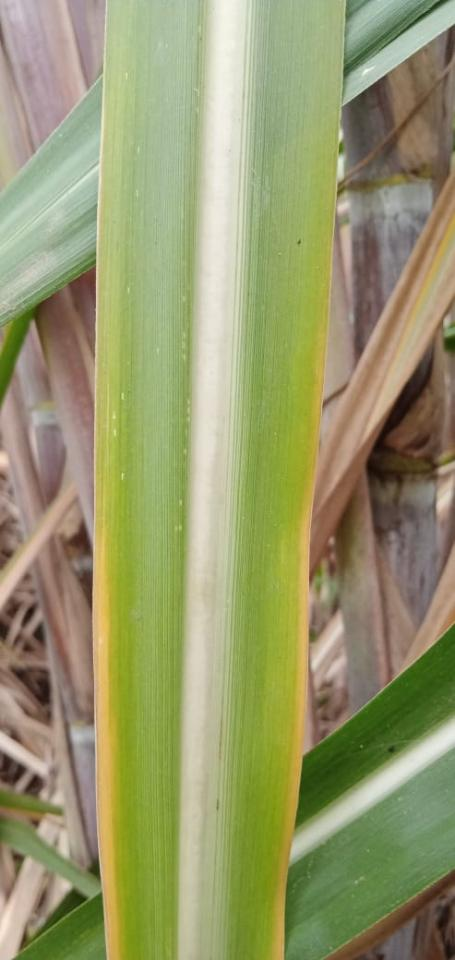Rust: (295, 238, 304, 246)
Yellow: (274, 369, 324, 959), (93, 536, 121, 959)
